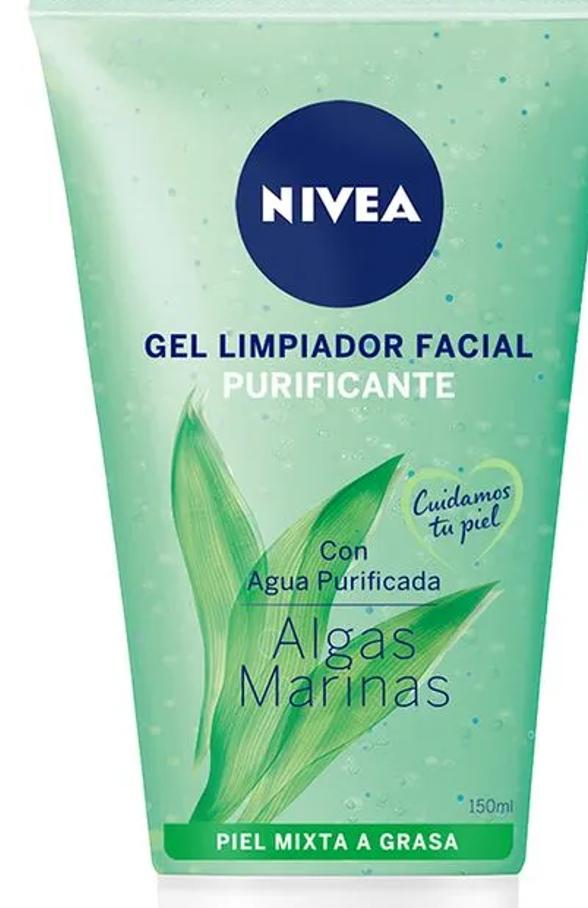brand: (230, 139, 444, 264)
extra_detail: (203, 364, 457, 419)
net_weight: (457, 779, 521, 826)
product_name: (137, 319, 548, 364)
